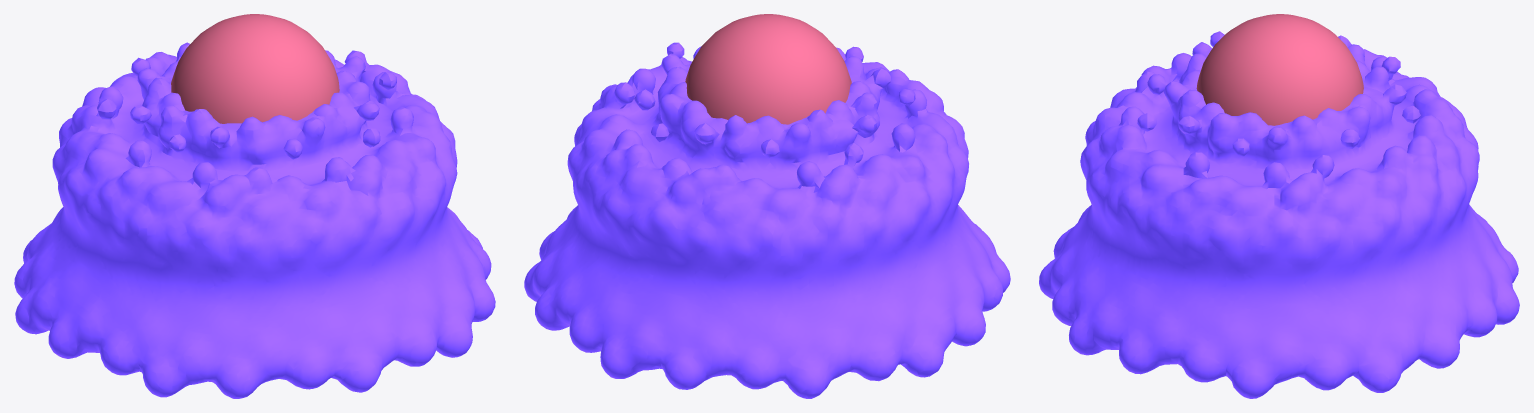
File: medusa.glb
3 views of the same model, side by side, from view 1: azimuth 30°, elevation 25°; view 2: azimuth 150°, elevation 25°; view 3: azimuth 270°, elevation 25° (orthographic).
Parts seen in each view (by area): view 1: medusa; view 2: medusa; view 3: medusa.
Boxes of the visible parts, left/top/right/bottom form: medusa: left=14, top=14, right=495, bottom=398; medusa: left=524, top=14, right=1010, bottom=398; medusa: left=1039, top=14, right=1519, bottom=398.
Size of the model in its own units: 3.98 by 2.6 by 3.97.
